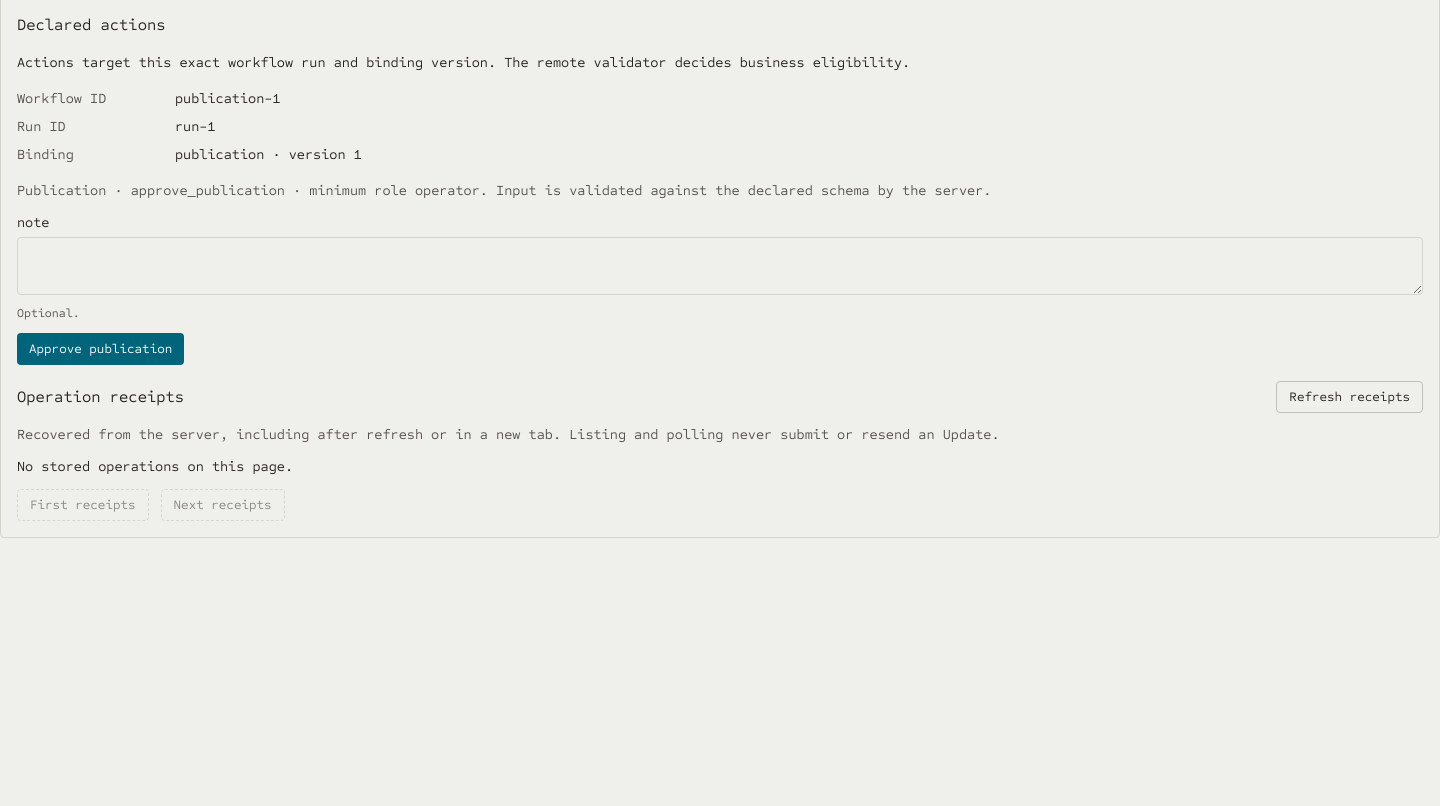
Scenario: declared connector approval › submits the declared input to an immutable run and binding once during duplicate clicks
This screenshot has width=1440, height=806.
Expected: the button "Approve publication" is enabled, [17,333,184,365]
Expected: the element "Declared actions" shows "run-1", [175,118,216,135]
Type "Reviewed publication" into the text box labelled "note".
click(720, 266); type("Reviewed publication")  # box [17,237,1423,295]
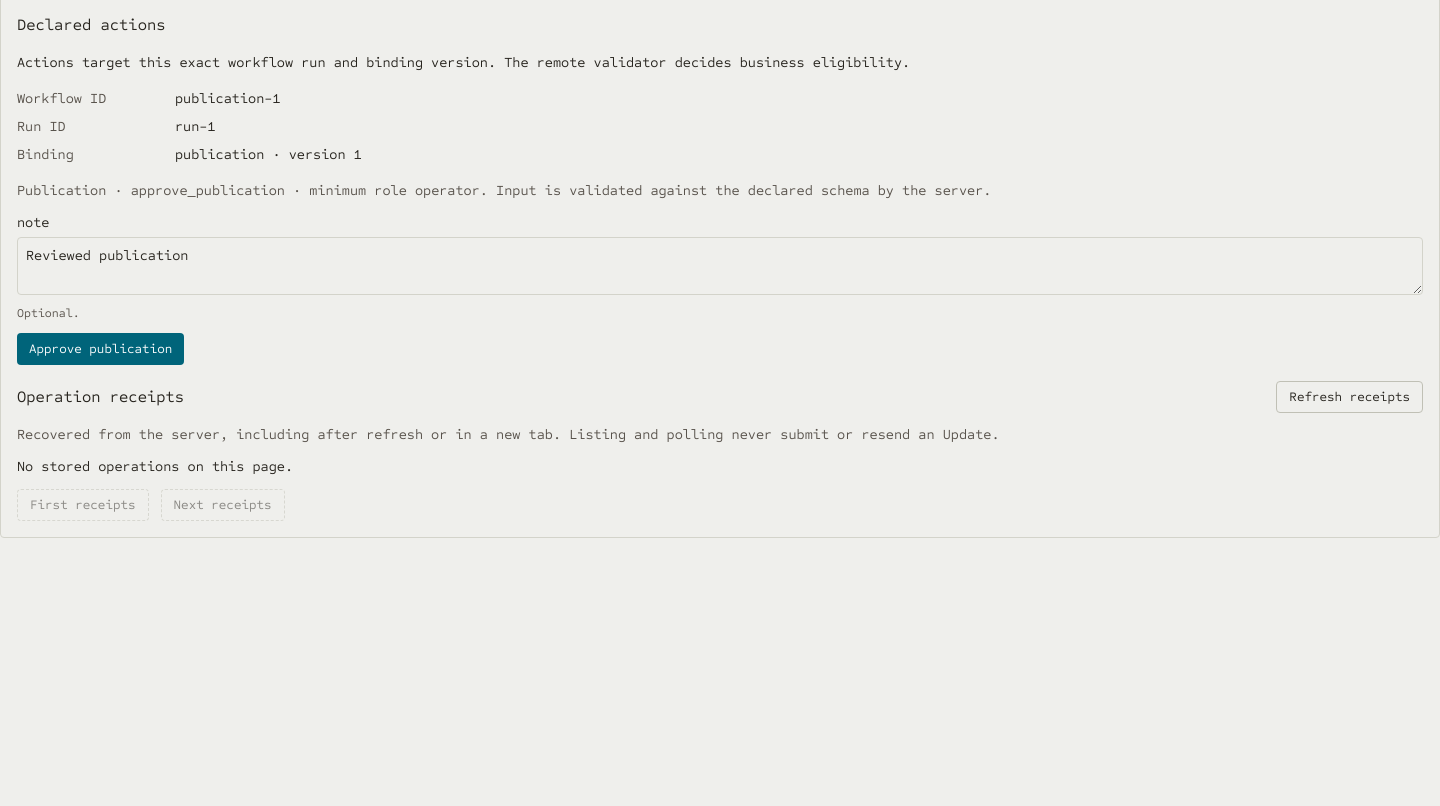
Click the button "Approve publication".
click(101, 349)  # box [17,333,184,365]
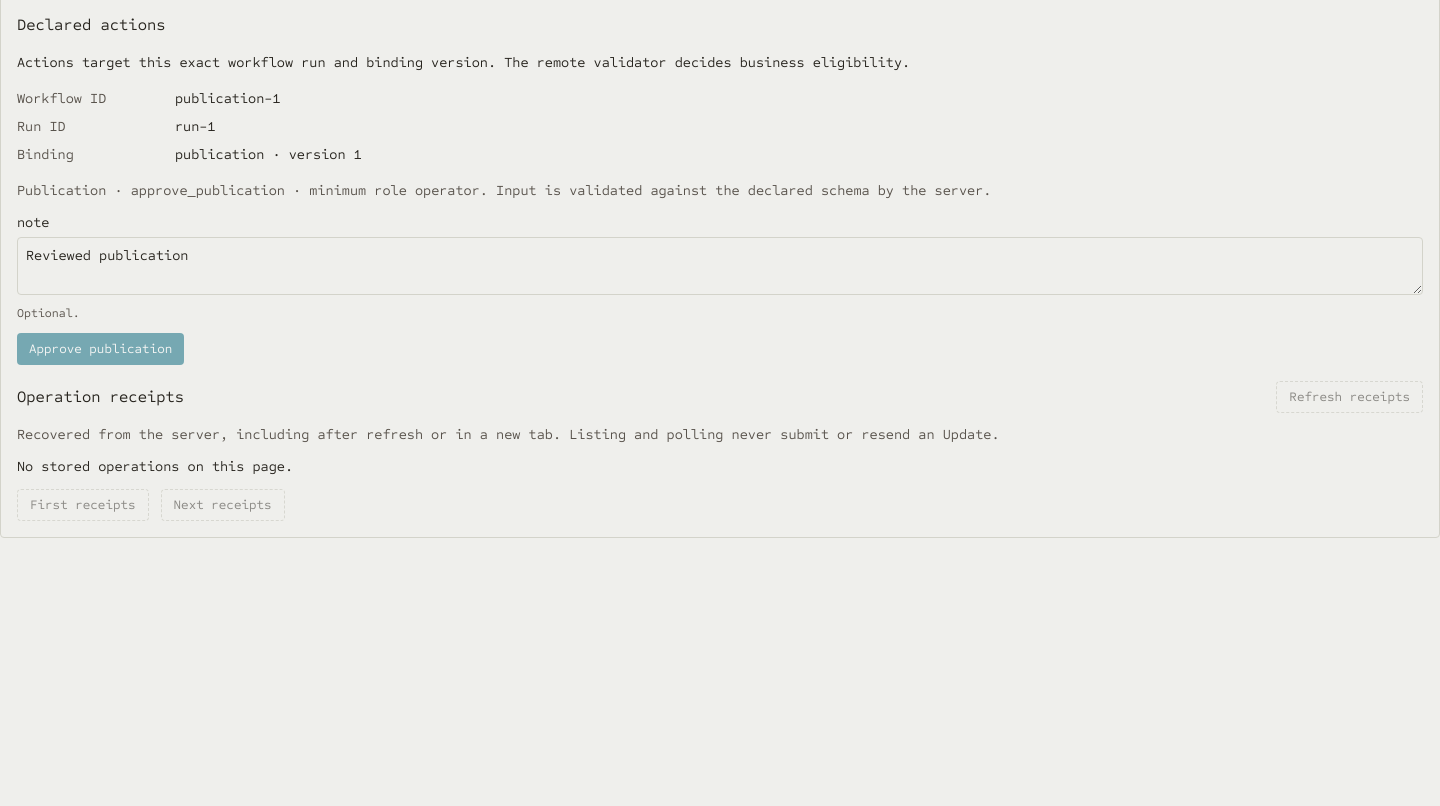
Click the button "Approve publication".
click(101, 349)  # box [17,333,184,365]
(page scrolled)
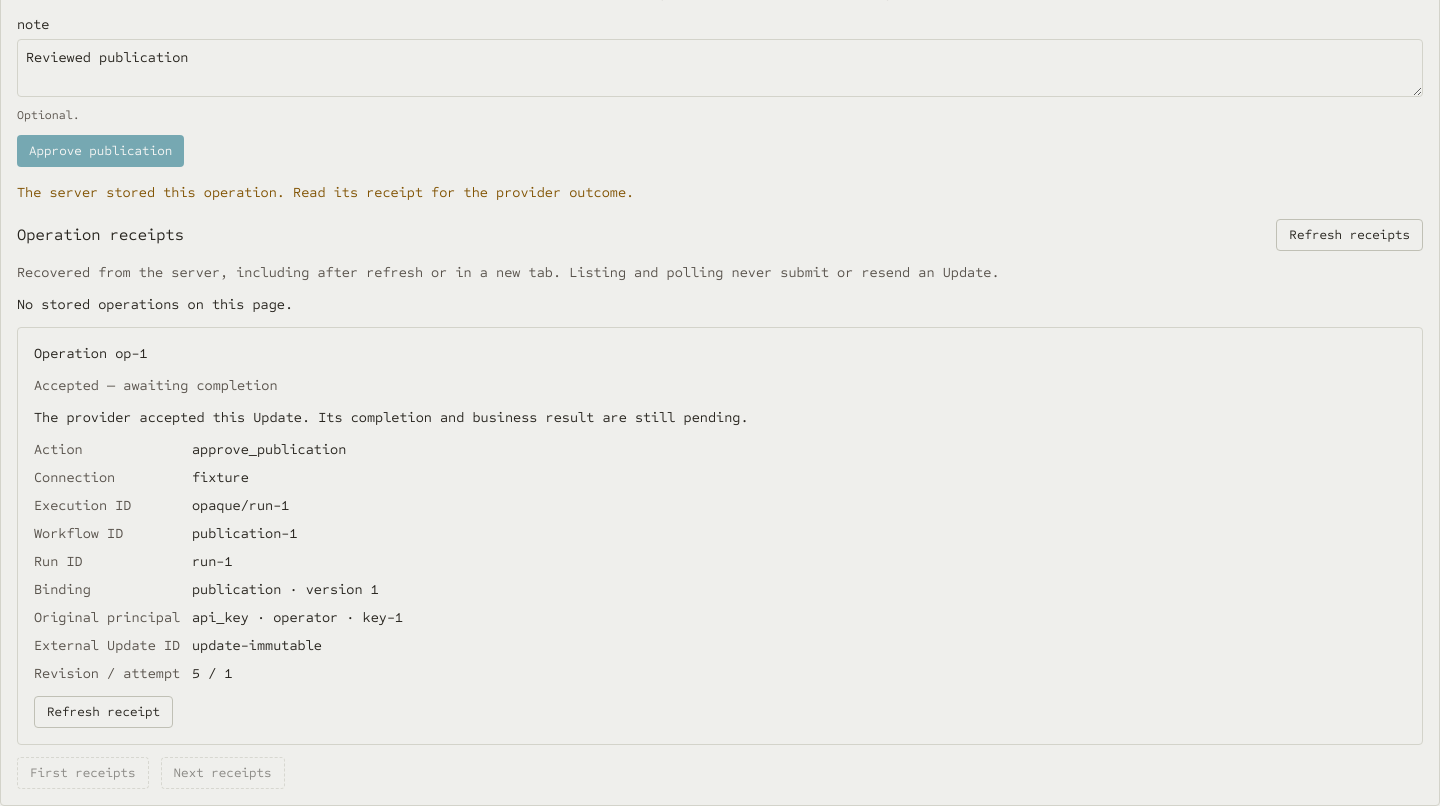
Expected: the element with test id "operation-receipt" is shown, [17,327,1423,745]
